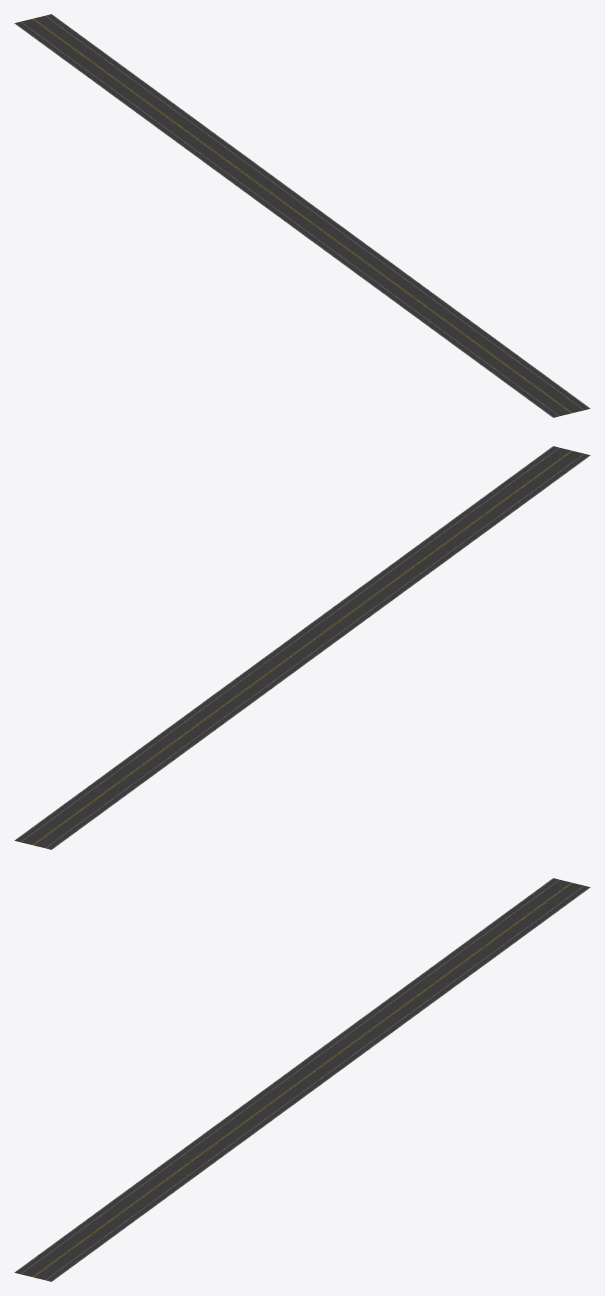
The model's file is SingleLaneRoad.fbx.
The picture shows the model from 3 angles, top to bottom: view 1: azimuth 30°, elevation 25°; view 2: azimuth 150°, elevation 25°; view 3: azimuth 330°, elevation 25°; orthographic projection.
Visible parts, largest first — view 1: SingleLane; view 2: SingleLane; view 3: SingleLane.
Boxes of the visible parts, x1=… form: SingleLane: x1=14, y1=14, x2=590, y2=417; SingleLane: x1=14, y1=446, x2=590, y2=849; SingleLane: x1=14, y1=878, x2=590, y2=1281.
Size of the model in its own units: 0.102 by 0 by 2.51.
1 material, 1 textured.
